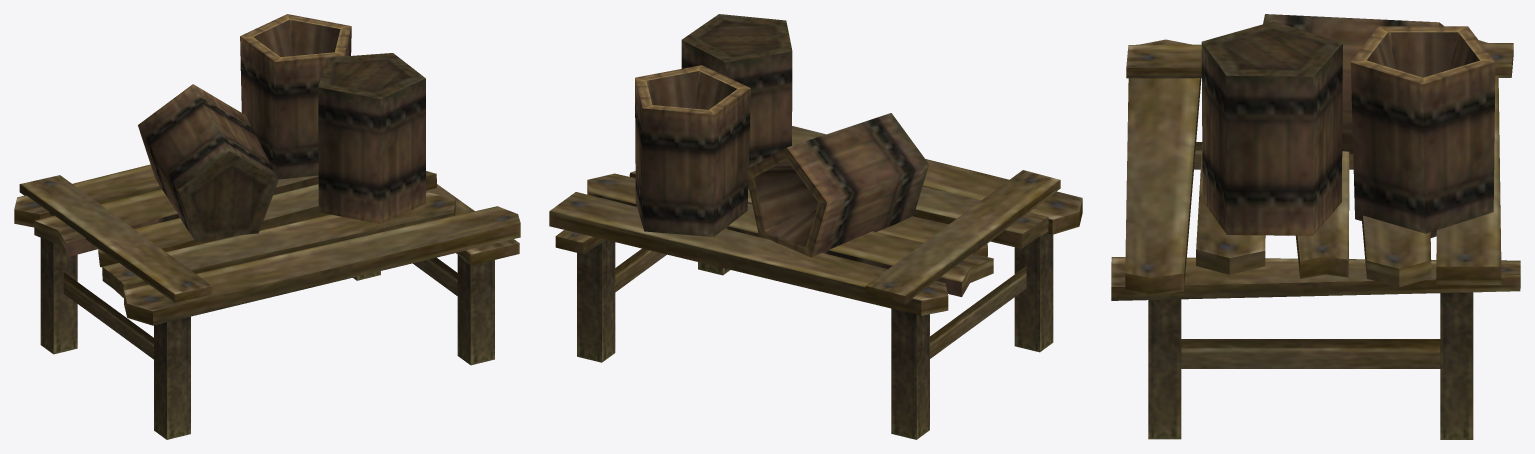
The model's file is ZW_dzwxmt.FBX.
3 renders of one model, left to right at view 1: azimuth 30°, elevation 25°; view 2: azimuth 150°, elevation 25°; view 3: azimuth 270°, elevation 25°, orthographic. The views are drawn at different scales.
Parts seen in each view (by area): view 1: ZW_dzwxmt; view 2: ZW_dzwxmt; view 3: ZW_dzwxmt.
Boxes of the visible parts, <box> form: ZW_dzwxmt: <box>14,14,520,439</box>; ZW_dzwxmt: <box>549,14,1082,439</box>; ZW_dzwxmt: <box>1111,14,1520,439</box>.
Bounding box in the file's own units: 137 × 91.12 × 99.51.
